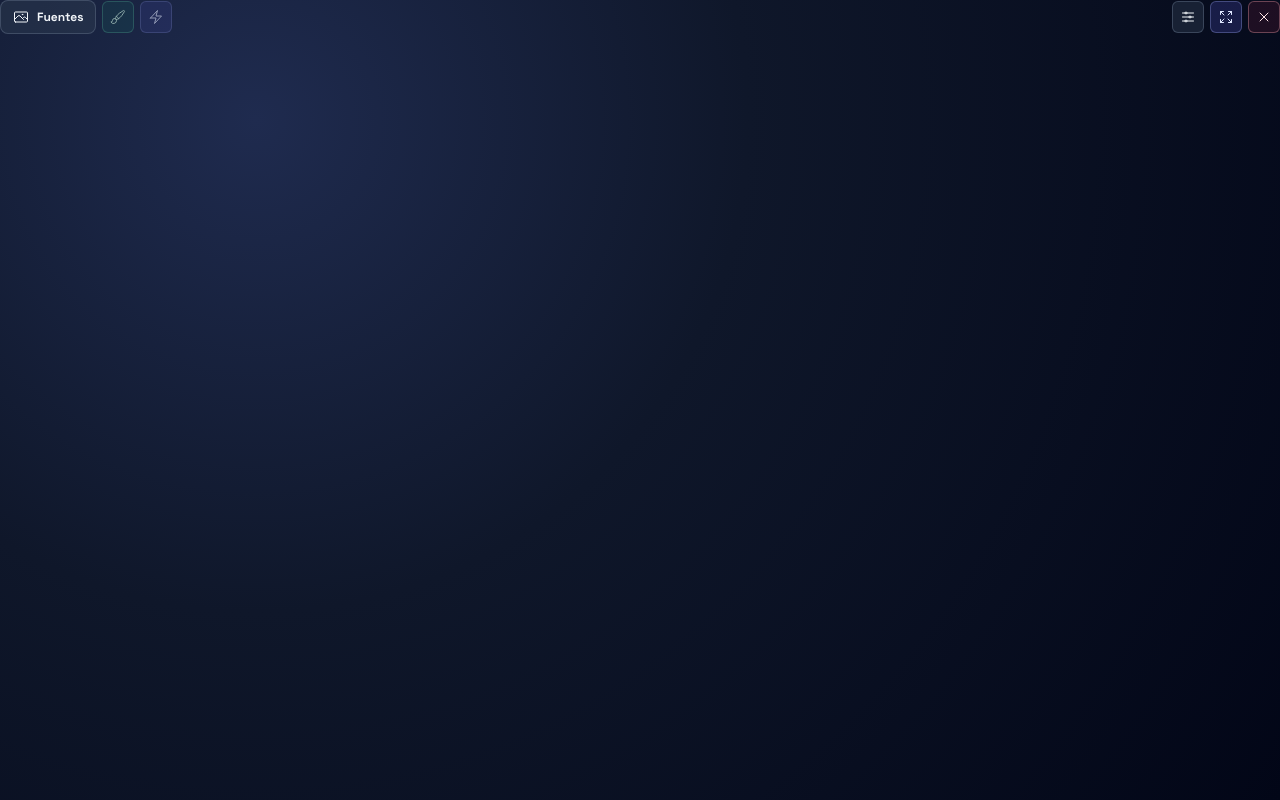
MonitorControls › permite alternar tabs de fuente y renderiza solo el panel activo
The width and height of the screenshot is (1280, 800).
Step 1. Click the button with test id "monitor-open-source-modal" → (48, 17), box [0, 0, 96, 34]
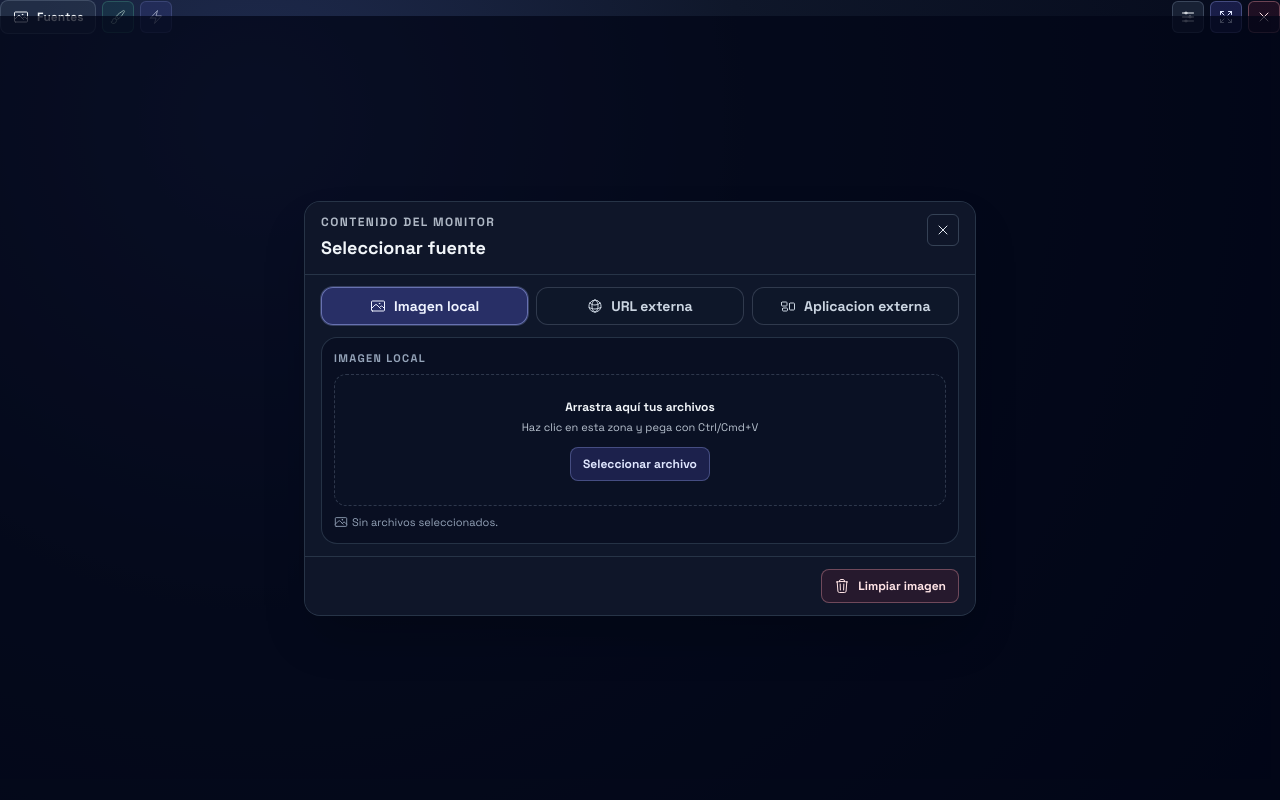
Now the panel with test id "monitor-source-panel-local-image" is shown, box [321, 336, 959, 544]
Step 2. Click the tab with test id "monitor-source-tab-external-url" → (640, 306), box [536, 286, 744, 324]
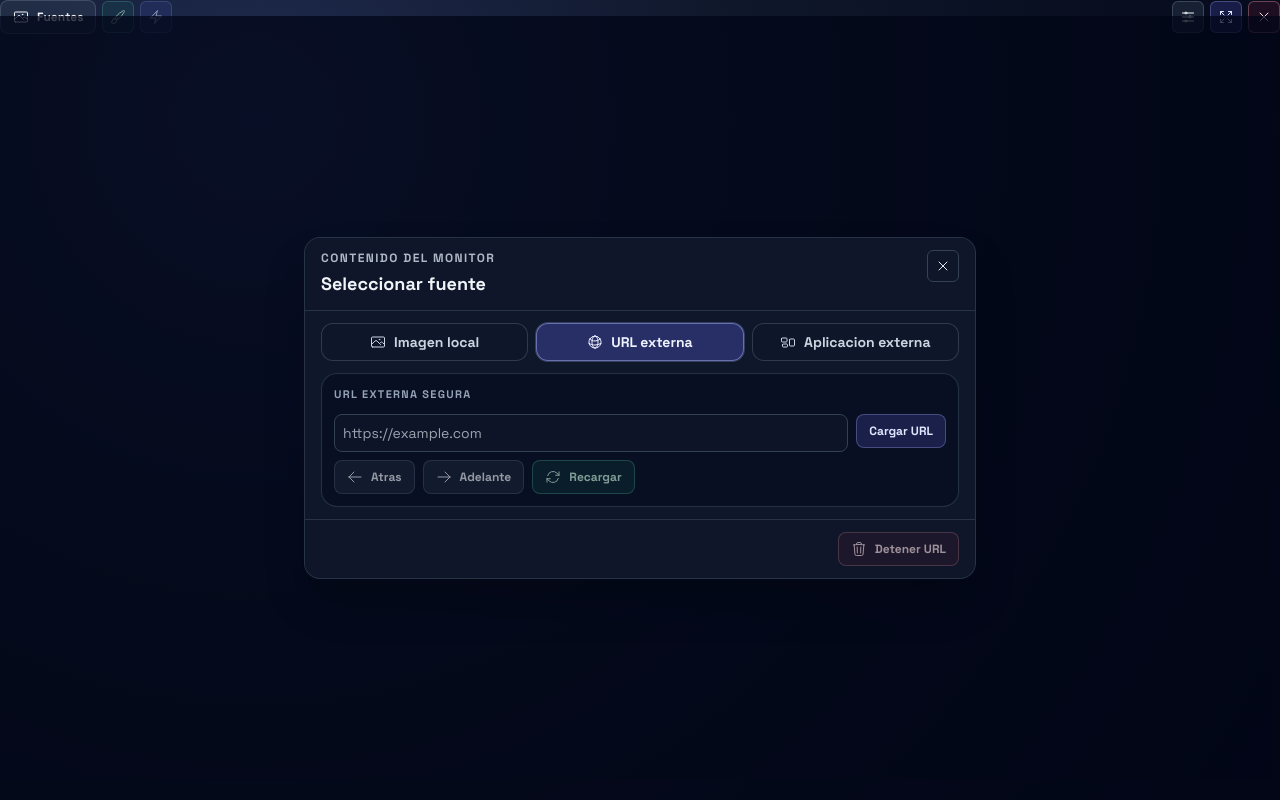
Now the panel with test id "monitor-source-panel-external-url" is shown, box [321, 373, 959, 507]
Step 3. Click the tab with test id "monitor-source-tab-external-app" → (855, 342), box [752, 323, 959, 361]
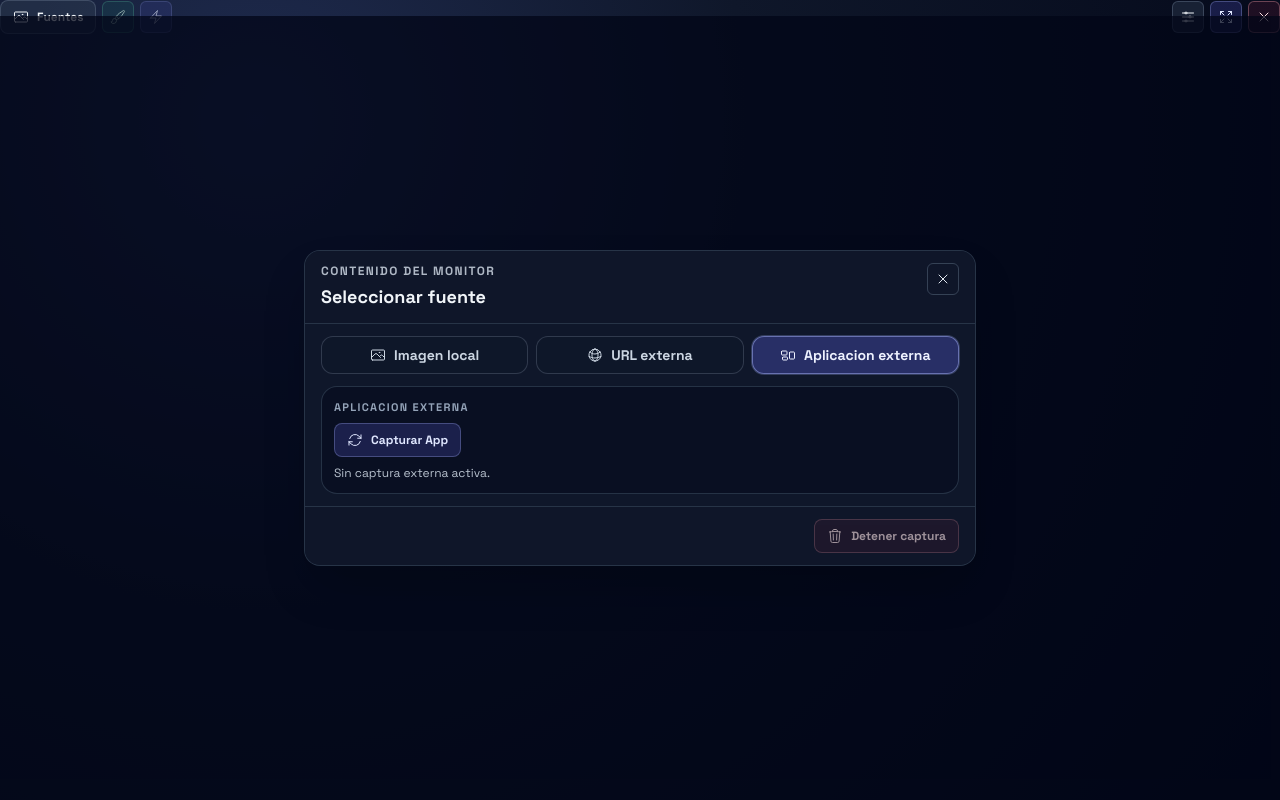
Now the panel with test id "monitor-source-panel-external-app" is shown, box [321, 386, 959, 494]
